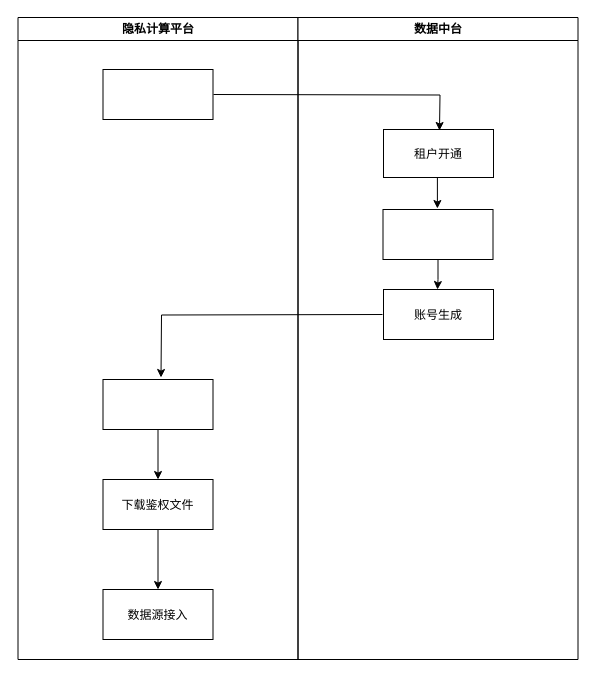
Some shapes in this 595 by 677 pixel diagram are drawn without their labels. Each missing label, with the centre of its shape:
"数据中台租户申请" belongs at (157,94).
"登录中台" belongs at (157,404).
"资源分配" belongs at (437,234).
